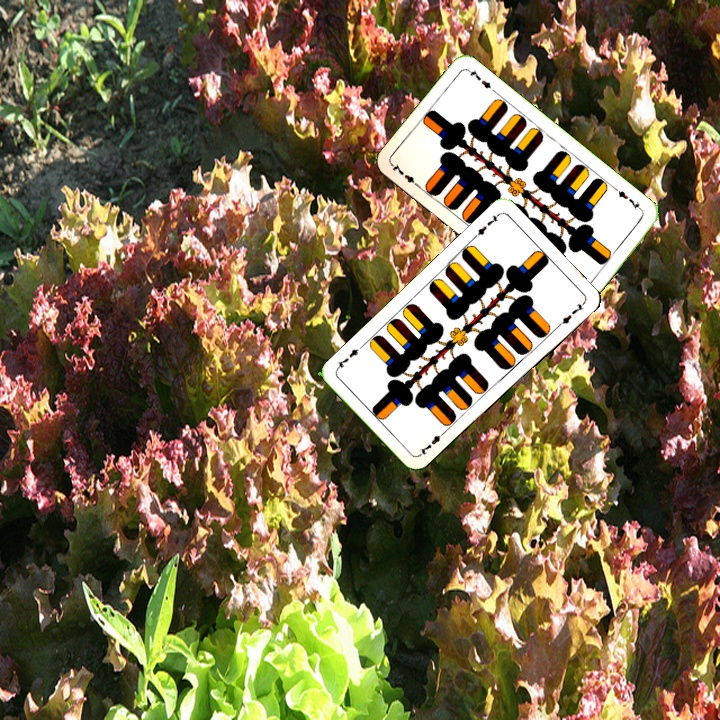E7: (415, 426, 448, 458), (388, 160, 423, 190), (469, 210, 502, 241), (611, 185, 645, 214)
